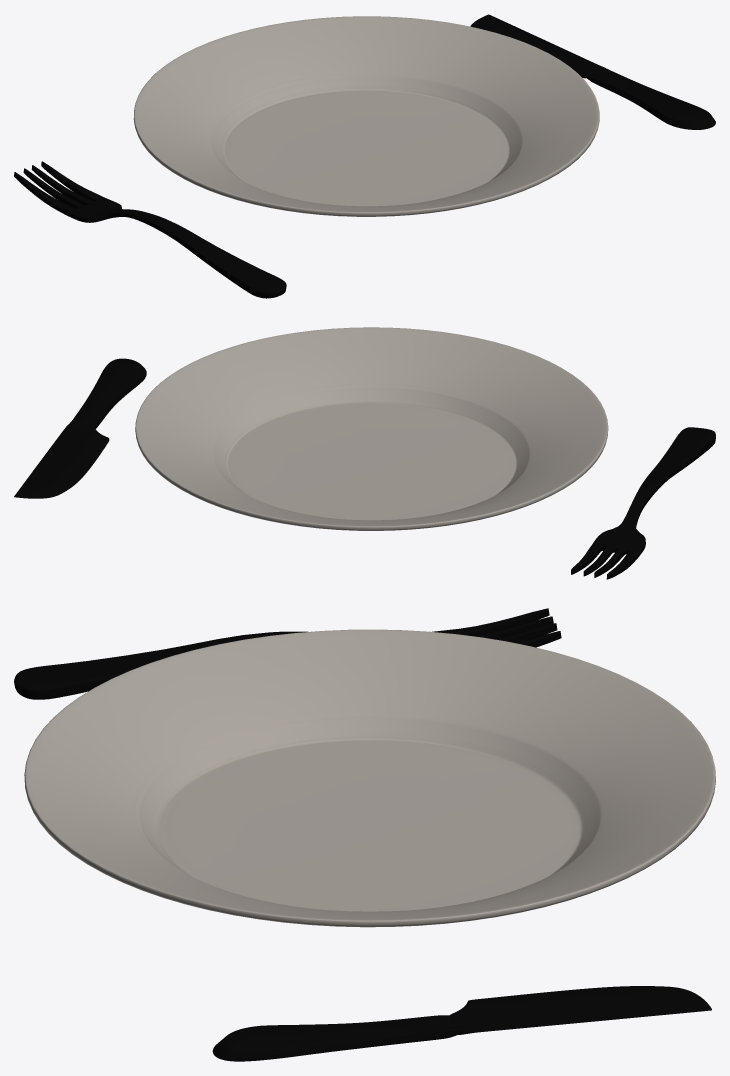
The model's file is Plate1.glb.
The picture shows the model from 3 angles, top to bottom: view 1: azimuth 30°, elevation 25°; view 2: azimuth 150°, elevation 25°; view 3: azimuth 270°, elevation 25°; orthographic projection. The views are drawn at different scales.
Visible parts, largest first — view 1: node_id34; view 2: node_id34; view 3: node_id34.
Boxes of the visible parts, left/top/right/bottom form: node_id34: left=14, top=14, right=715, bottom=298; node_id34: left=14, top=327, right=715, bottom=579; node_id34: left=14, top=608, right=715, bottom=1061.
Bounding box in the file's own units: 0.5556 × 0.0413 × 0.383.
Materials: 1 (1 with a texture image).
